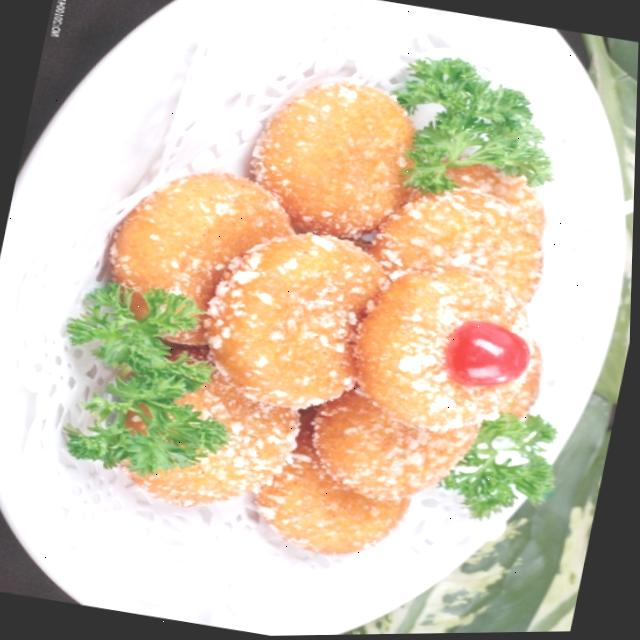炸货点心: (42, 18, 608, 608)
蛋糕甜品: (42, 18, 608, 608)
